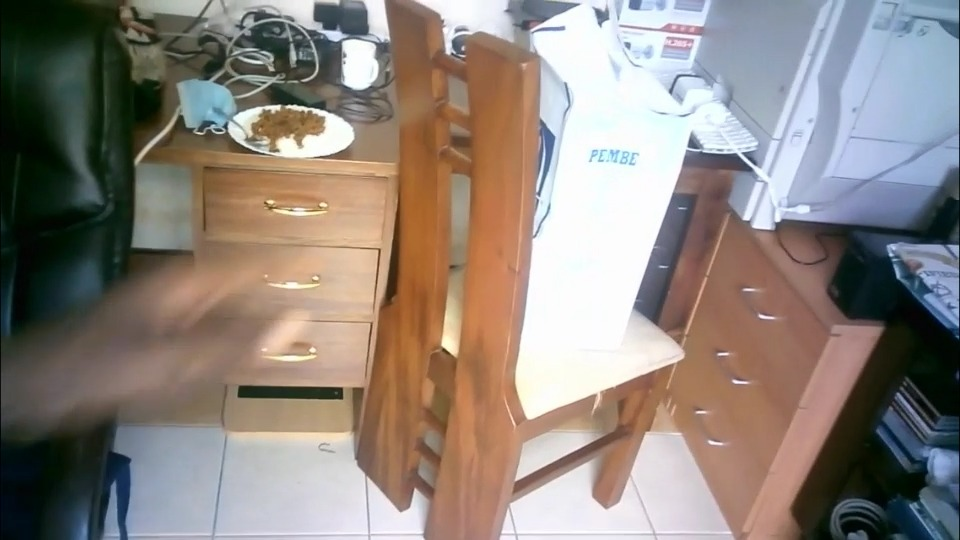wheat_flour_blue_label: (537, 44, 683, 360)
